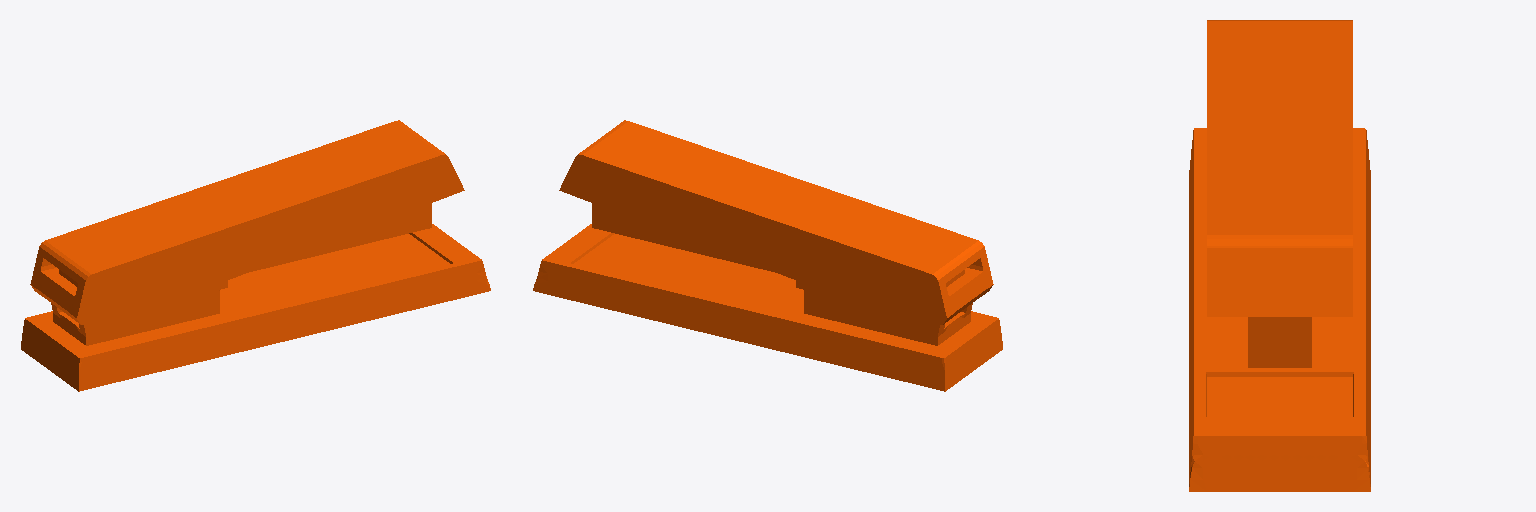
The robot description file, URDF, robot "stapler":
<?xml version="1.0" ?>
<robot name="stapler">
   <material name="obj_color">
      <color rgba="1.0 0.423529411765 0.0392156862745 1.0"/>
   </material>
   <link name="top">
      <inertial>
         <origin rpy="2.556344744120491e-05 0.0001536877087761767 0.0001641477663868941" xyz="-0.00442890514616095 -3.887338621129686e-08 -0.004862318676880636"/>
         <mass value="0.1287092059654799"/>
         <inertia ixx="2.557444195032002e-05" ixy="-6.009660646114624e-09" ixz="-1.186806261023021e-06" iyy="0.0001641477661251879" iyz="5.475524936433401e-11" izz="0.0001536767145287678"/>
      </inertial>
      <visual>
         <origin rpy="0 0 0" xyz="0 0 0"/>
         <geometry>
            <mesh filename="top_watertight_tiny.stl" scale="1 1 1"/>
         </geometry>
         <material name="obj_color"/>
      </visual>
      <collision>
         <origin rpy="0 0 0" xyz="0 0 0"/>
         <geometry>
            <mesh filename="top_watertight_tiny.obj" scale="1 1 1"/>
         </geometry>
      </collision>
   </link>
   <link name="bottom">
      <inertial>
         <origin rpy="1.633333333194242e-08 1.633333333194243e-08 1.633333333357667e-08" xyz="0.3464080000000008 0.3464080000000008 0.3464080000000008"/>
         <mass value="0.0009800000000000017"/>
         <inertia ixx="1.633333333248717e-08" ixy="5.447480642029219e-19" ixz="5.447480642029219e-19" iyy="1.633333333248717e-08" iyz="5.447480642029219e-19" izz="1.633333333248717e-08"/>
      </inertial>
      <visual>
         <origin rpy="0 0 0" xyz="0 0 0"/>
         <geometry>
            <mesh filename="bottom_watertight_tiny.stl" scale="1 1 1"/>
         </geometry>
         <material name="obj_color"/>
      </visual>
   </link>
   <link name="world"/>
   <joint name="world_to_base" type="fixed">
      <origin xyz="0 0 0"/>
      <axis xyz="0 0 0"/>
      <parent link="world"/>
      <child link="bottom"/>
   </joint>
   <joint name="rotation" type="revolute">
      <origin xyz="0 0 0"/>
      <axis xyz="0 0 -1"/>
      <parent link="bottom"/>
      <child link="top"/>
      <dynamics damping="1.0" friction="1.0"/>
      <limit effort="0.1" velocity="0.1" lower="0" upper="0.001"/>
   </joint>
</robot>

--- Render facts (derived) ---
The picture shows the robot from 3 angles, left to right: view 1: azimuth 30°, elevation 25°; view 2: azimuth 150°, elevation 25°; view 3: azimuth 270°, elevation 25°; orthographic projection.
Model stapler with 3 links and 2 joints (1 revolute, 1 fixed), rooted at world, posed every joint at zero.
Visible links, largest first — view 1: top; view 2: top; view 3: top.
Boxes of the visible links, x1,y1,x2,y2 form: top: [21, 120, 490, 391]; top: [533, 120, 1002, 391]; top: [1189, 20, 1370, 491].
Size in the robot's own frame: 0.123 by 0.03 by 0.0405 metres.
Meshes: 2 distinct files referenced, 1 mesh visuals loaded (1 binary STL); not drawn: 1 (reference not matched to a file when rendering).
